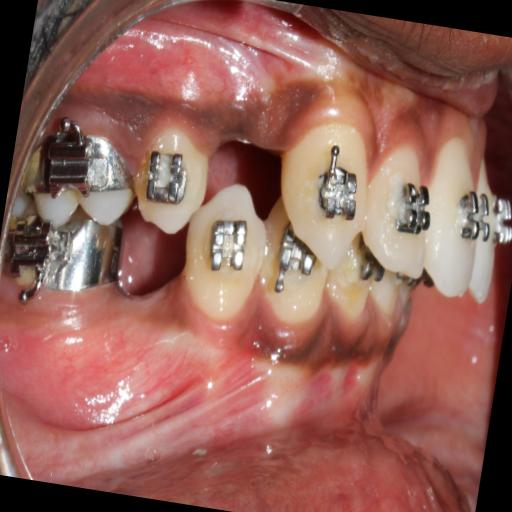correct_brace: (174, 179, 275, 327), (308, 138, 366, 236), (197, 214, 256, 296), (386, 164, 437, 247)
incorrect_brace: (356, 137, 442, 281)
